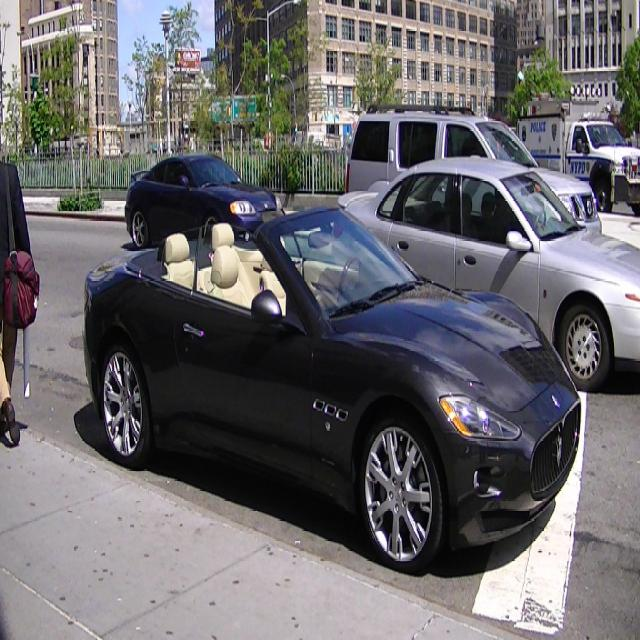Car: (83, 203, 581, 569), (339, 156, 640, 392), (346, 104, 602, 234), (125, 155, 282, 247)
